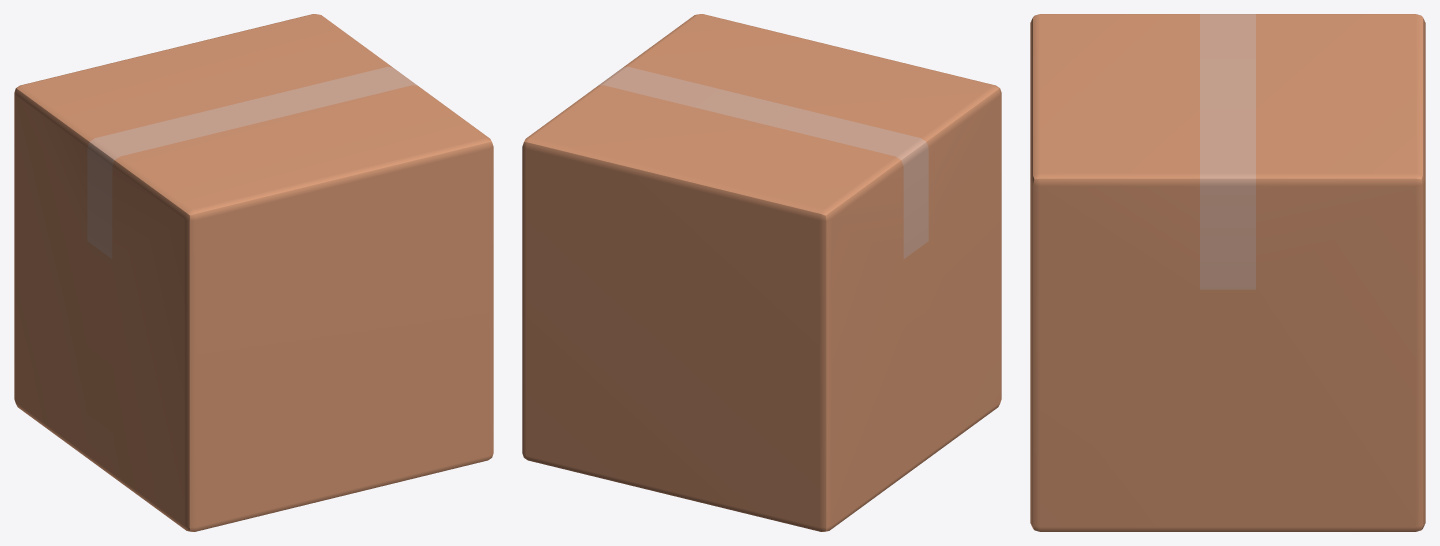
3 renders of one model, left to right at view 1: azimuth 30°, elevation 25°; view 2: azimuth 150°, elevation 25°; view 3: azimuth 270°, elevation 25°, orthographic. The views are drawn at different scales.
Visible parts, largest first — view 1: box; view 2: box; view 3: box.
Boxes of the visible parts, left/top/right/bottom form: box: left=14, top=14, right=493, bottom=531; box: left=522, top=14, right=1001, bottom=531; box: left=1030, top=14, right=1425, bottom=531.
Size of the model in its own units: 500 by 500 by 500.
